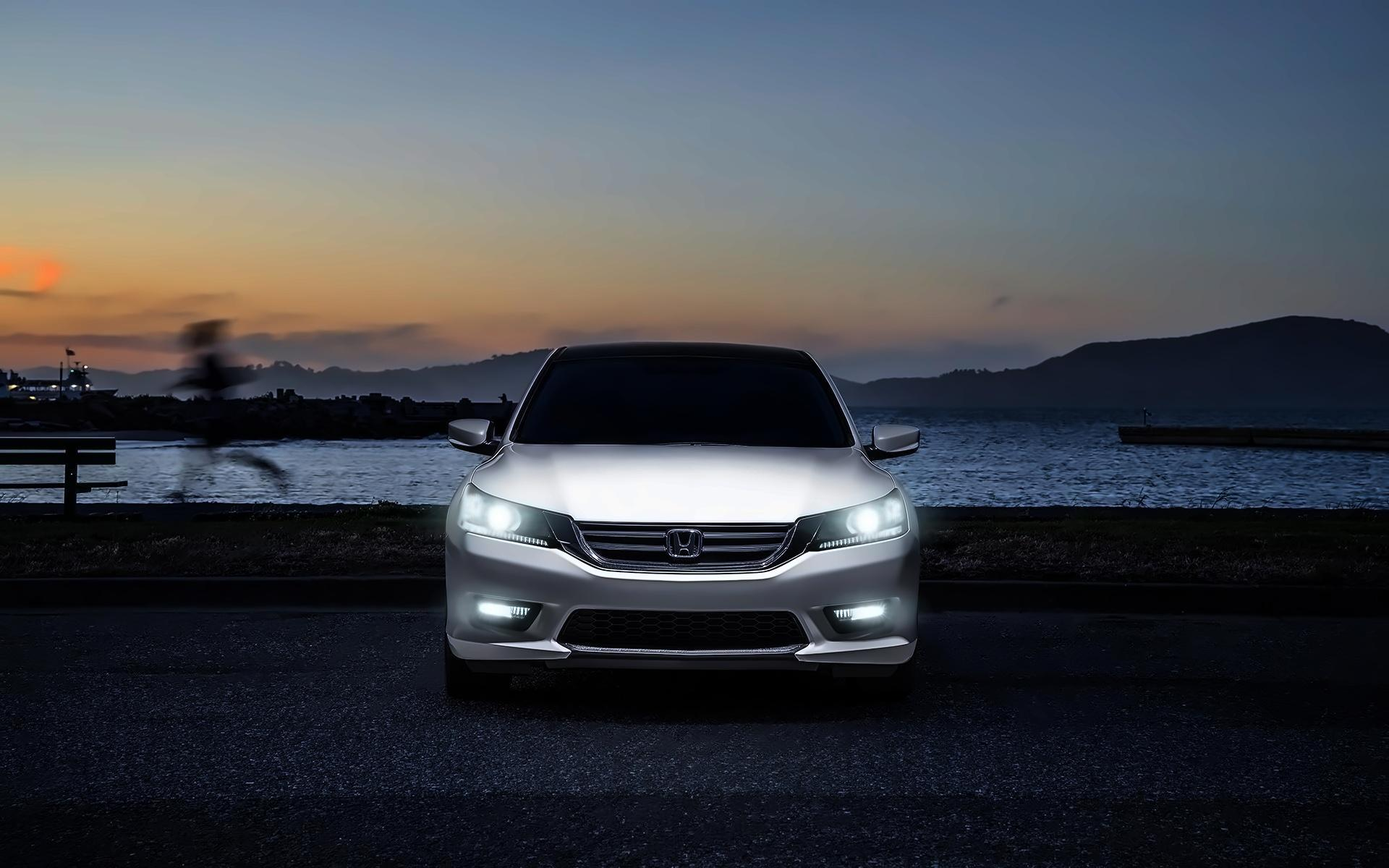Car hood: (469, 438, 902, 522)
Front bumper: (440, 528, 925, 681)
Headlight - -L-: (791, 486, 919, 556)
Headlight - -R-: (453, 475, 574, 557)
Side mirror - -L-: (862, 417, 923, 468)
Side mirror - -R-: (438, 410, 512, 463)
